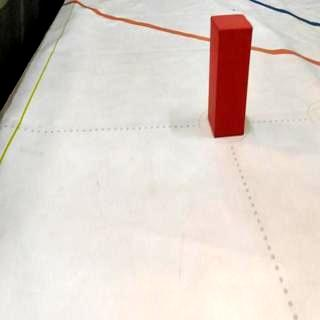redbox: (208, 13, 255, 139)
